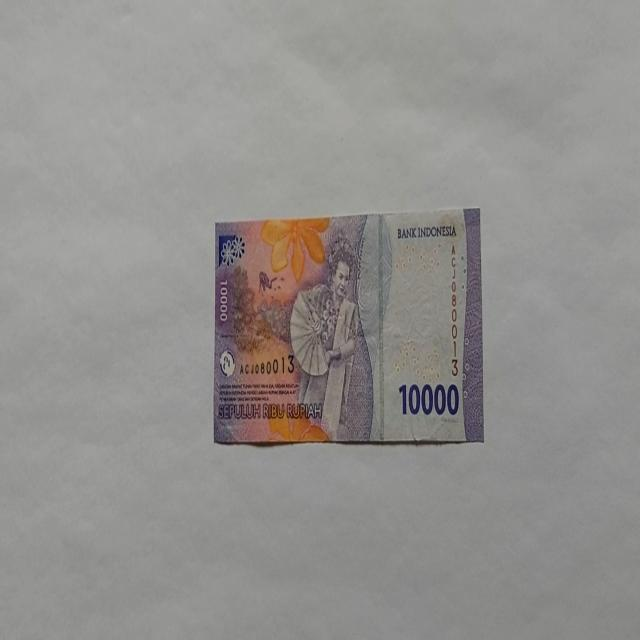sepuluh ribu rupiah: (212, 207, 484, 446)
